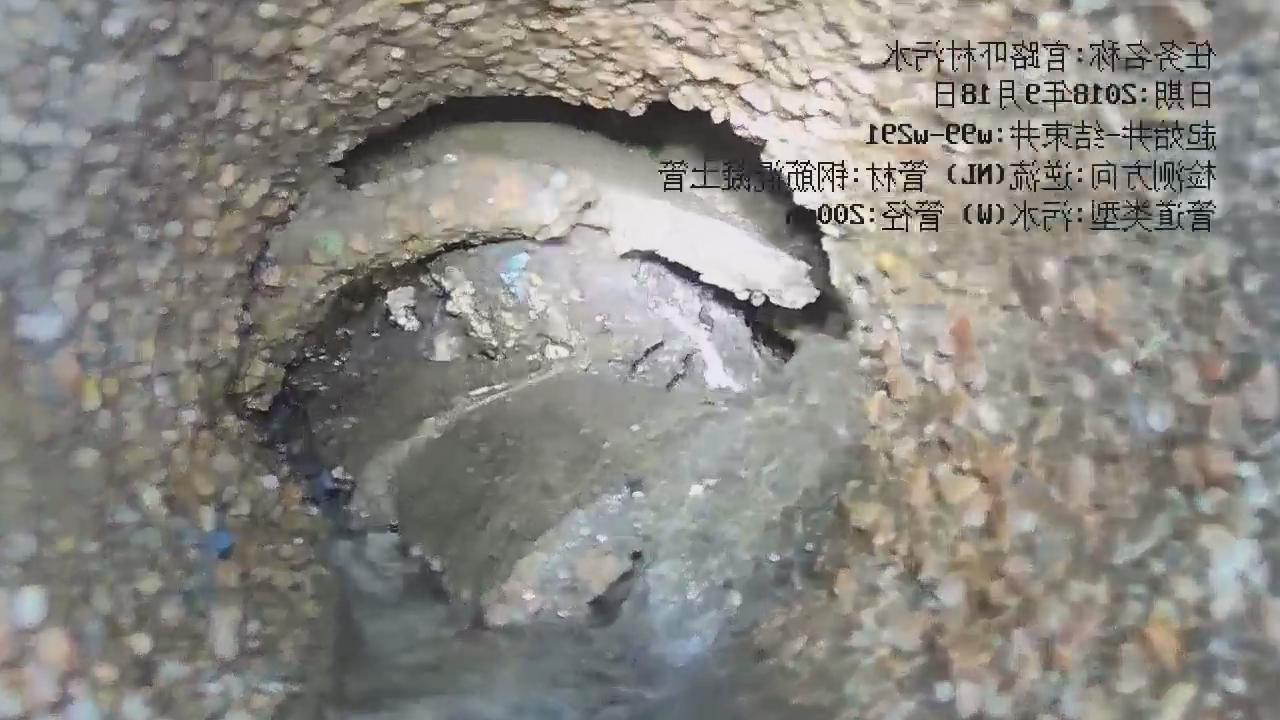PL: (333, 96, 842, 356)
